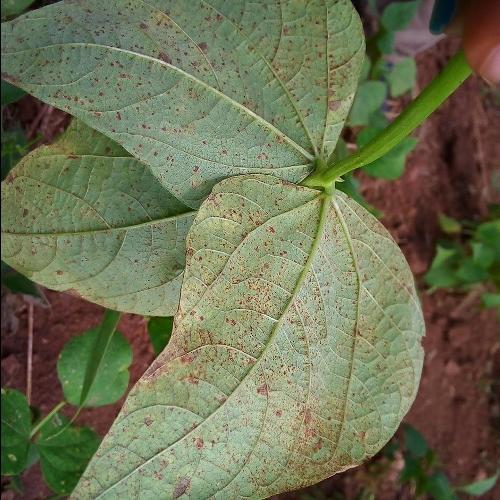hawar: (190, 219, 300, 377), (96, 4, 269, 100), (250, 386, 382, 492), (301, 21, 355, 117)
